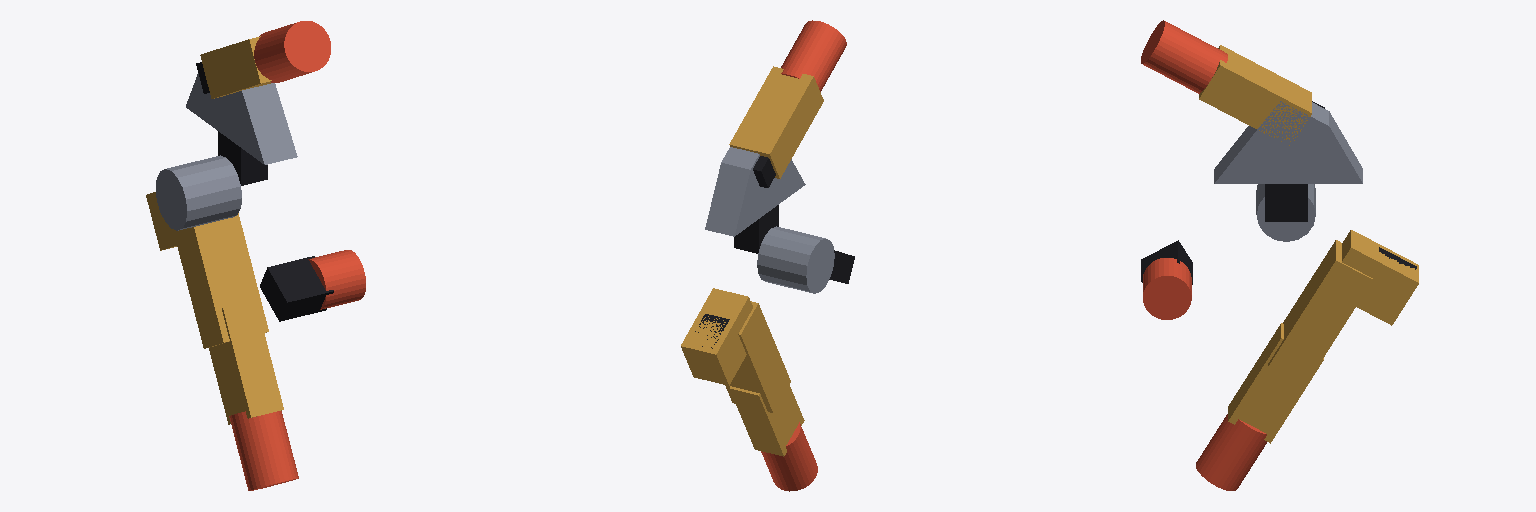
URDF robot description (g0038_c00):
<robot name="g0038_c00">
  <link name="palm">
    <visual name="palm_palm1">
      <origin xyz="0 0 0" rpy="0 0 0" />
      <geometry>
        <mesh filename="palm_palm1.obj" />
      </geometry>
      <material name="palm_palm1_mat">
        <color rgba="0.55 0.57 0.62 1" />
      </material>
    </visual>
    <collision>
      <origin xyz="0 0 0" rpy="0 0 0" />
      <geometry>
        <mesh filename="palm_palm1.obj" />
      </geometry>
    </collision>
    <visual name="palm_mount2">
      <origin xyz="0 0 0" rpy="0 0 0" />
      <geometry>
        <mesh filename="palm_mount2.obj" />
      </geometry>
      <material name="palm_mount2_mat">
        <color rgba="0.55 0.57 0.62 1" />
      </material>
    </visual>
    <collision>
      <origin xyz="0 0 0" rpy="0 0 0" />
      <geometry>
        <mesh filename="palm_mount2.obj" />
      </geometry>
    </collision>
    <visual name="palm_hinge3">
      <origin xyz="0 -1.37772765e-18 0.0225" rpy="-1.57079633 -6.123234e-17 1.57079633" />
      <geometry>
        <box size="0.029 0.034 0.02" />
      </geometry>
      <material name="palm_hinge3_mat">
        <color rgba="0.15 0.15 0.17 1" />
      </material>
    </visual>
    <collision>
      <origin xyz="0 -1.37772765e-18 0.0225" rpy="-1.57079633 -6.123234e-17 1.57079633" />
      <geometry>
        <box size="0.029 0.034 0.02" />
      </geometry>
    </collision>
    <visual name="palm_motor4">
      <origin xyz="-0.007 -0.08 -0.04" rpy="3.5352508e-17 -0.523598776 1.57079633" />
      <geometry>
        <box size="0.029 0.034 0.02" />
      </geometry>
      <material name="palm_motor4_mat">
        <color rgba="0.15 0.15 0.17 1" />
      </material>
    </visual>
    <collision>
      <origin xyz="-0.007 -0.08 -0.04" rpy="3.5352508e-17 -0.523598776 1.57079633" />
      <geometry>
        <box size="0.029 0.034 0.02" />
      </geometry>
    </collision>
    <visual name="palm_motor5">
      <origin xyz="-0.0045 0.0666996732 -0.0467548095" rpy="1.57079633 -0.523598776 -1.57079633" />
      <geometry>
        <box size="0.029 0.034 0.02" />
      </geometry>
      <material name="palm_motor5_mat">
        <color rgba="0.15 0.15 0.17 1" />
      </material>
    </visual>
    <collision>
      <origin xyz="-0.0045 0.0666996732 -0.0467548095" rpy="1.57079633 -0.523598776 -1.57079633" />
      <geometry>
        <box size="0.029 0.034 0.02" />
      </geometry>
    </collision>
    <inertial>
      <origin xyz="0 -0.00125906712 -0.0230411175" rpy="1.57079633 0.0238274717 1.57079633" />
      <mass value="0.603638102" />
      <inertia ixx="0.000416702529" ixy="0" ixz="0" iyy="0.00135563213" iyz="0" izz="0.0017143854" />
    </inertial>
  </link>
  <link name="palm0">
    <visual name="palm0_palm1">
      <origin xyz="0 0 0" rpy="0 0 0" />
      <geometry>
        <mesh filename="palm0_palm1.obj" />
      </geometry>
      <material name="palm0_palm1_mat">
        <color rgba="0.55 0.57 0.62 1" />
      </material>
    </visual>
    <collision>
      <origin xyz="0 0 0" rpy="0 0 0" />
      <geometry>
        <mesh filename="palm0_palm1.obj" />
      </geometry>
    </collision>
    <visual name="palm0_motor2">
      <origin xyz="-0.0045 0.00649519053 0.04625" rpy="-0.523598776 -5.30287619e-17 3.061617e-17" />
      <geometry>
        <box size="0.029 0.034 0.02" />
      </geometry>
      <material name="palm0_motor2_mat">
        <color rgba="0.15 0.15 0.17 1" />
      </material>
    </visual>
    <collision>
      <origin xyz="-0.0045 0.00649519053 0.04625" rpy="-0.523598776 -5.30287619e-17 3.061617e-17" />
      <geometry>
        <box size="0.029 0.034 0.02" />
      </geometry>
    </collision>
    <inertial>
      <origin xyz="0 0.00330028046 0.026851579" rpy="1.57079633 -0.0331225628 1.57079633" />
      <mass value="0.150639152" />
      <inertia ixx="4.19013742e-05" ixy="0" ixz="0" iyy="7.63719437e-05" iyz="0" izz="0.000103811959" />
    </inertial>
  </link>
  <link name="f0_link0">
    <visual name="f0_link0_link1">
      <origin xyz="0.019 -1.38777878e-17 -2.60208521e-18" rpy="-1.57079633 -0 -1.57079633" />
      <geometry>
        <cylinder radius="0.0165" length="0.029" />
      </geometry>
      <material name="f0_link0_link1_mat">
        <color rgba="0.85 0.35 0.25 1" />
      </material>
    </visual>
    <collision>
      <origin xyz="0.019 -1.38777878e-17 -2.60208521e-18" rpy="-1.57079633 -0 -1.57079633" />
      <geometry>
        <cylinder radius="0.0165" length="0.029" />
      </geometry>
    </collision>
    <inertial>
      <origin xyz="0.019 0 0" rpy="0 0 0" />
      <mass value="0.0763354" />
      <inertia ixx="9.49466441e-06" ixy="0" ixz="0" iyy="2.24143997e-05" iyz="0" izz="2.24143997e-05" />
    </inertial>
  </link>
  <link name="f1_link0">
    <visual name="f1_link0_link1">
      <origin xyz="0.02375 0 0" rpy="0 7.03853194e-17 0" />
      <geometry>
        <box size="0.0715 0.033 0.029" />
      </geometry>
      <material name="f1_link0_link1_mat">
        <color rgba="0.80 0.62 0.30 1" />
      </material>
    </visual>
    <collision>
      <origin xyz="0.02375 0 0" rpy="0 7.03853194e-17 0" />
      <geometry>
        <box size="0.0715 0.033 0.029" />
      </geometry>
    </collision>
    <inertial>
      <origin xyz="0.02375 0 0" rpy="0 0 0" />
      <mass value="0.119744625" />
      <inertia ixx="1.92589272e-05" ixy="0" ixz="0" iyy="5.94058074e-05" iyz="0" izz="6.18805296e-05" />
    </inertial>
  </link>
  <link name="f1_link1">
    <visual name="f1_link1_link1">
      <origin xyz="0.029 0 6.9388939e-18" rpy="-1.57079633 -0 -1.57079633" />
      <geometry>
        <cylinder radius="0.0165" length="0.049" />
      </geometry>
      <material name="f1_link1_link1_mat">
        <color rgba="0.85 0.35 0.25 1" />
      </material>
    </visual>
    <collision>
      <origin xyz="0.029 0 6.9388939e-18" rpy="-1.57079633 -0 -1.57079633" />
      <geometry>
        <cylinder radius="0.0165" length="0.049" />
      </geometry>
    </collision>
    <inertial>
      <origin xyz="0.029 0 0" rpy="0 0 0" />
      <mass value="0.106270851" />
      <inertia ixx="1.35696277e-05" ixy="0" ixz="0" iyy="5.30015704e-05" iyz="0" izz="5.30015704e-05" />
    </inertial>
  </link>
  <link name="f2_link0">
    <visual name="f2_link0_link1">
      <origin xyz="-0.00625 0 -0.0165" rpy="0 4.06369831e-17 0" />
      <geometry>
        <box size="0.0365 0.029 0.053" />
      </geometry>
      <material name="f2_link0_link1_mat">
        <color rgba="0.80 0.62 0.30 1" />
      </material>
    </visual>
    <collision>
      <origin xyz="-0.00625 0 -0.0165" rpy="0 4.06369831e-17 0" />
      <geometry>
        <box size="0.0365 0.029 0.053" />
      </geometry>
    </collision>
    <inertial>
      <origin xyz="-0.00625 0 -0.0165" rpy="0 0 0" />
      <mass value="0.098175875" />
      <inertia ixx="2.98618286e-05" ixy="0" ixz="0" iyy="3.38809035e-05" iyz="0" izz="1.778006e-05" />
    </inertial>
  </link>
  <link name="f2_link1">
    <visual name="f2_link1_link1">
      <origin xyz="0.03375 0 6.9388939e-18" rpy="0 4.06369831e-17 0" />
      <geometry>
        <box size="0.0915 0.033 0.029" />
      </geometry>
      <material name="f2_link1_link1_mat">
        <color rgba="0.80 0.62 0.30 1" />
      </material>
    </visual>
    <collision>
      <origin xyz="0.03375 0 6.9388939e-18" rpy="0 4.06369831e-17 0" />
      <geometry>
        <box size="0.0915 0.033 0.029" />
      </geometry>
    </collision>
    <inertial>
      <origin xyz="0.03375 0 0" rpy="0 0 0" />
      <mass value="0.153239625" />
      <inertia ixx="2.46460397e-05" ixy="0" ixz="0" iyy="0.000117652915" iyz="0" izz="0.000120819867" />
    </inertial>
  </link>
  <link name="f2_link2">
    <visual name="f2_link2_link1">
      <origin xyz="0.02375 0 -1.38777878e-17" rpy="0 4.06369831e-17 0" />
      <geometry>
        <box size="0.0715 0.024 0.033" />
      </geometry>
      <material name="f2_link2_link1_mat">
        <color rgba="0.80 0.62 0.30 1" />
      </material>
    </visual>
    <collision>
      <origin xyz="0.02375 0 -1.38777878e-17" rpy="0 4.06369831e-17 0" />
      <geometry>
        <box size="0.0715 0.024 0.033" />
      </geometry>
    </collision>
    <inertial>
      <origin xyz="0.02375 0 0" rpy="0 0 0" />
      <mass value="0.099099" />
      <inertia ixx="1.37499863e-05" ixy="0" ixz="0" iyy="5.12114728e-05" iyz="0" izz="4.69749906e-05" />
    </inertial>
  </link>
  <link name="f2_link3">
    <visual name="f2_link3_link1">
      <origin xyz="0.029 0 3.46944695e-18" rpy="-1.57079633 -0 -1.57079633" />
      <geometry>
        <cylinder radius="0.0165" length="0.049" />
      </geometry>
      <material name="f2_link3_link1_mat">
        <color rgba="0.85 0.35 0.25 1" />
      </material>
    </visual>
    <collision>
      <origin xyz="0.029 0 3.46944695e-18" rpy="-1.57079633 -0 -1.57079633" />
      <geometry>
        <cylinder radius="0.0165" length="0.049" />
      </geometry>
    </collision>
    <inertial>
      <origin xyz="0.029 0 0" rpy="0 0 0" />
      <mass value="0.106270851" />
      <inertia ixx="1.35696277e-05" ixy="0" ixz="0" iyy="5.30015704e-05" iyz="0" izz="5.30015704e-05" />
    </inertial>
  </link>
  <joint name="palm0_joint" type="revolute">
    <parent link="palm" />
    <child link="palm0" />
    <origin xyz="0 -1.8369702e-18 0.03" rpy="0 0 0" />
    <axis xyz="0 1 6.123234e-17" />
    <limit effort="0.5" lower="-0.523598776" upper="0.523598776" velocity="5" />
    <dynamics damping="0.0775033" friction="0" />
  </joint>
  <joint name="f0_j0" type="revolute">
    <parent link="palm" />
    <child link="f0_link0" />
    <origin xyz="0.0005 -0.08 -0.04" rpy="0.523598776 3.061617e-17 -5.30287619e-17" />
    <axis xyz="0 1 6.123234e-17" />
    <limit effort="0.5" lower="-0.523598776" upper="0.523598776" velocity="5" />
    <dynamics damping="0.0775033" friction="0" />
  </joint>
  <joint name="f1_j0" type="revolute">
    <parent link="palm0" />
    <child link="f1_link0" />
    <origin xyz="-0.0045 1.8369702e-18 0.05" rpy="-0 -0.523598776 -1.57079633" />
    <axis xyz="-0 -1 -6.123234e-17" />
    <limit effort="0.5" lower="-0.523598776" upper="0.523598776" velocity="5" />
    <dynamics damping="0.0775033" friction="0" />
  </joint>
  <joint name="f1_j1" type="revolute">
    <parent link="f1_link0" />
    <child link="f1_link1" />
    <origin xyz="0.05 0 0" rpy="0 0 0" />
    <axis xyz="0 0 1" />
    <limit effort="0.5" lower="-0.523598776" upper="1.57079633" velocity="5" />
    <dynamics damping="0.0775033" friction="0" />
  </joint>
  <joint name="f2_j0" type="revolute">
    <parent link="palm" />
    <child link="f2_link0" />
    <origin xyz="-0.0045 0.04 -0.04" rpy="0 1.04719755 -1.57079633" />
    <axis xyz="0 0 1" />
    <limit effort="0.5" lower="-0.523598776" upper="1.57079633" velocity="5" />
    <dynamics damping="0.0775033" friction="0" />
  </joint>
  <joint name="f2_j1" type="revolute">
    <parent link="f2_link0" />
    <child link="f2_link1" />
    <origin xyz="0 0 0" rpy="0 0 0" />
    <axis xyz="0 1 6.123234e-17" />
    <limit effort="0.5" lower="-0.523598776" upper="0.523598776" velocity="5" />
    <dynamics damping="0.0775033" friction="0" />
  </joint>
  <joint name="f2_j2" type="revolute">
    <parent link="f2_link1" />
    <child link="f2_link2" />
    <origin xyz="0.07 0 0" rpy="0 0 0" />
    <axis xyz="0 0 1" />
    <limit effort="0.5" lower="-0.523598776" upper="1.57079633" velocity="5" />
    <dynamics damping="0.0775033" friction="0" />
  </joint>
  <joint name="f2_j3" type="revolute">
    <parent link="f2_link2" />
    <child link="f2_link3" />
    <origin xyz="0.05 0 0" rpy="0 0 0" />
    <axis xyz="0 0 1" />
    <limit effort="0.5" lower="-0.523598776" upper="1.57079633" velocity="5" />
    <dynamics damping="0.0775033" friction="0" />
  </joint>
</robot>

--- Render facts (derived) ---
The picture shows the robot from 3 angles, left to right: view 1: azimuth 30°, elevation 25°; view 2: azimuth 150°, elevation 25°; view 3: azimuth 270°, elevation 25°; orthographic projection.
Robot: g0038_c00 — 9 links, 8 joints (8 revolute); root link palm; default pose: all joints at 0.
Links seen in each view (by area): view 1: palm, f2_link1, f2_link2, palm0, f2_link3, f1_link1, f1_link0, f0_link0, f2_link0; view 2: palm, f1_link0, palm0, f2_link0, f2_link1, f2_link2, f1_link1, f2_link3; view 3: palm0, f2_link1, f1_link0, palm, f2_link2, f2_link0, f1_link1, f2_link3, f0_link0.
Boxes of the visible links, bbox=[...] form: palm: bbox=[156, 131, 333, 321]; f2_link1: bbox=[173, 213, 268, 348]; f2_link2: bbox=[209, 300, 283, 424]; palm0: bbox=[186, 62, 297, 164]; f2_link3: bbox=[229, 411, 298, 490]; f1_link1: bbox=[254, 21, 330, 82]; f1_link0: bbox=[200, 36, 271, 98]; f0_link0: bbox=[308, 250, 365, 309]; f2_link0: bbox=[146, 192, 176, 250]; palm: bbox=[695, 205, 854, 348]; f1_link0: bbox=[729, 66, 823, 178]; palm0: bbox=[705, 147, 805, 236]; f2_link0: bbox=[681, 288, 752, 385]; f2_link1: bbox=[725, 301, 790, 412]; f2_link2: bbox=[729, 384, 804, 456]; f1_link1: bbox=[781, 20, 846, 91]; f2_link3: bbox=[761, 422, 817, 491]; palm0: bbox=[1214, 101, 1362, 183]; f2_link1: bbox=[1268, 240, 1372, 385]; f1_link0: bbox=[1199, 45, 1311, 145]; palm: bbox=[1141, 184, 1416, 284]; f2_link2: bbox=[1228, 323, 1323, 443]; f2_link0: bbox=[1342, 230, 1418, 325]; f1_link1: bbox=[1141, 20, 1227, 93]; f2_link3: bbox=[1196, 414, 1266, 490]; f0_link0: bbox=[1143, 258, 1191, 319].
Size in the robot's own frame: 0.086 by 0.1874 by 0.3445 metres.
Meshes: 3 distinct files referenced, 2 mesh visuals loaded (2 OBJ); not drawn: 1 (reference not matched to a file when rendering).
